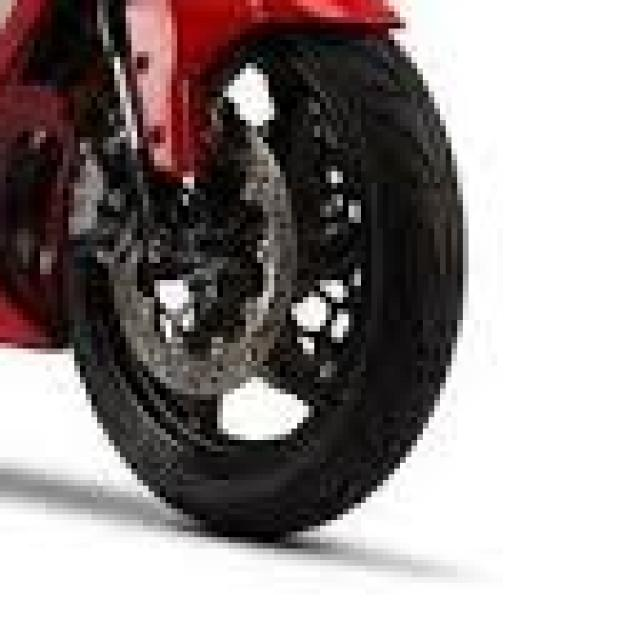bike: (0, 0, 474, 531)
